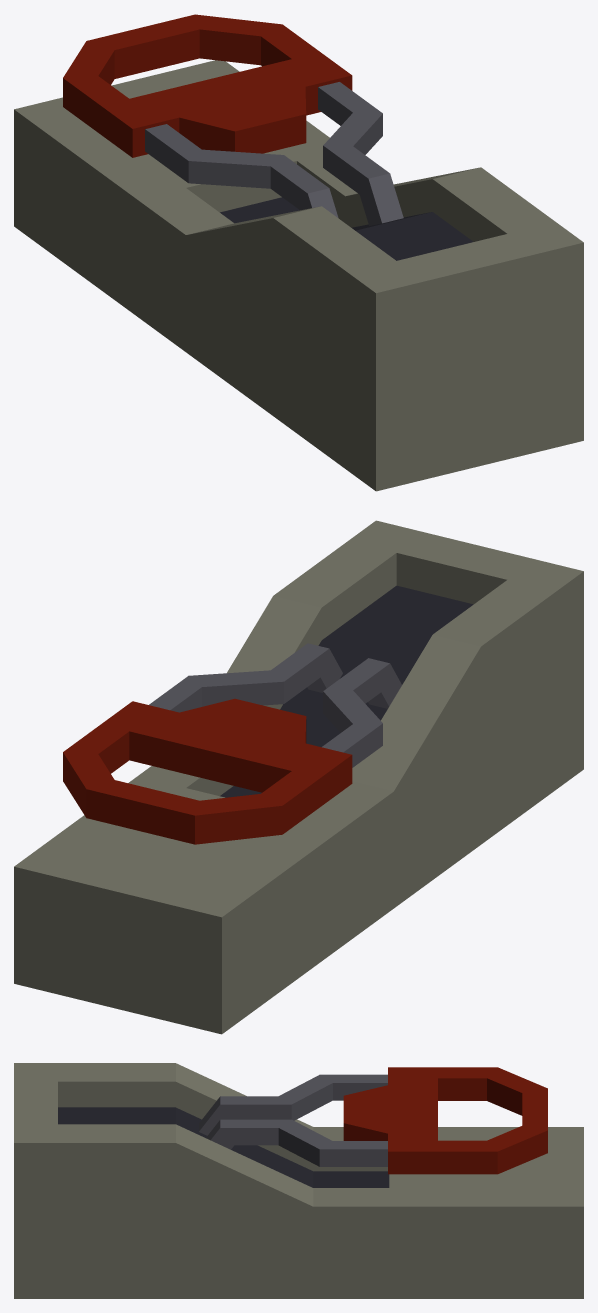
Rendered from LPSciFiCharacter_LeverB.fbx.
3 renders of one model, top to bottom at view 1: azimuth 30°, elevation 25°; view 2: azimuth 150°, elevation 25°; view 3: azimuth 270°, elevation 25°, orthographic. The views are drawn at different scales.
Parts seen in each view (by area): view 1: LeverB; view 2: LeverB; view 3: LeverB.
Boxes of the visible parts, box(x1,y1,x2,y2) form: LeverB: box(14, 14, 583, 491); LeverB: box(14, 520, 583, 1034); LeverB: box(14, 1063, 583, 1298).
Size of the model in its own units: 17.22 by 14.85 by 49.17.
